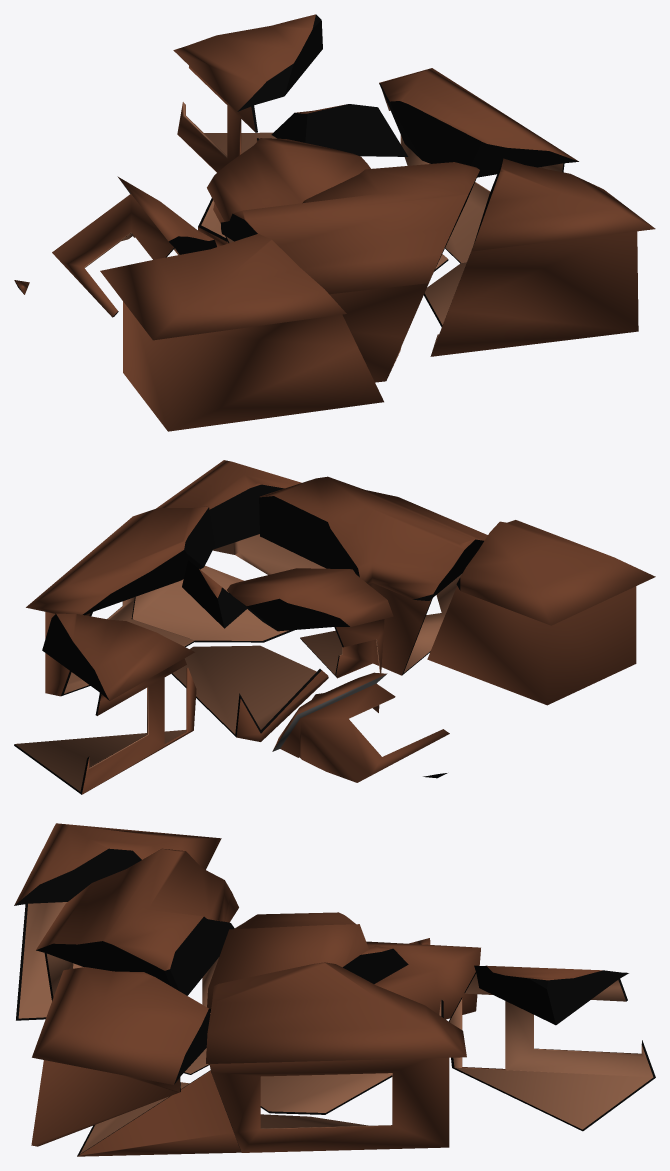
File: brokenHouse4.fbx
3 renders of one model, top to bottom at view 1: azimuth 30°, elevation 25°; view 2: azimuth 150°, elevation 25°; view 3: azimuth 270°, elevation 25°, orthographic. The views are drawn at different scales.
Parts seen in each view (by area): view 1: Cube; view 2: Cube; view 3: Cube.
Boxes of the visible parts, x1,y1,x2,y2 form: Cube: (14,14,655,431); Cube: (14,460,655,794); Cube: (14,823,655,1156).
Bounding box in the file's own units: 3306 × 893 × 3666.
